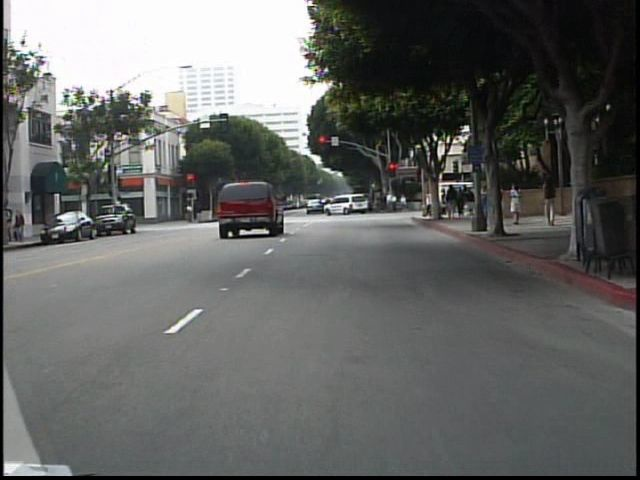person: (536, 169, 560, 230), (506, 182, 523, 228), (490, 181, 505, 223), (420, 188, 434, 220)
